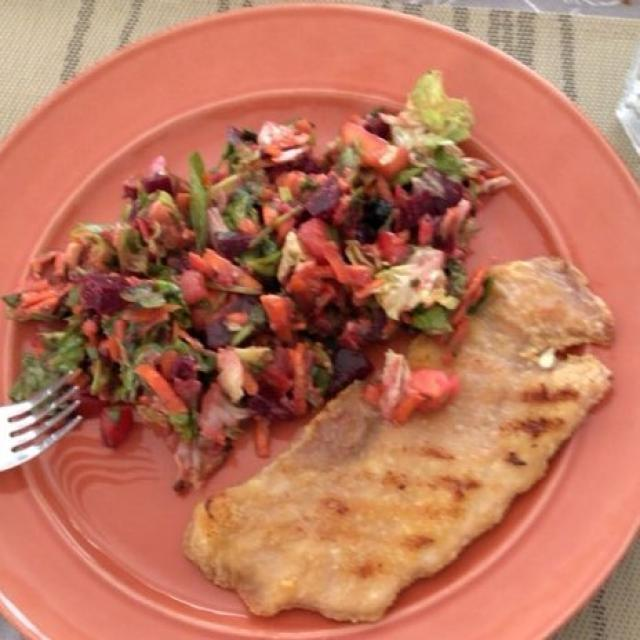breadcrumbs: (186, 367, 588, 618)
mixed-vegetables: (16, 138, 487, 424)
salad: (20, 66, 466, 397)
